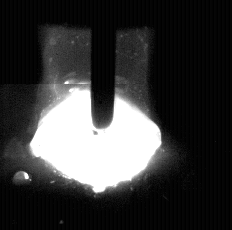arame: (91, 0, 117, 135)
poca: (29, 0, 163, 230)
